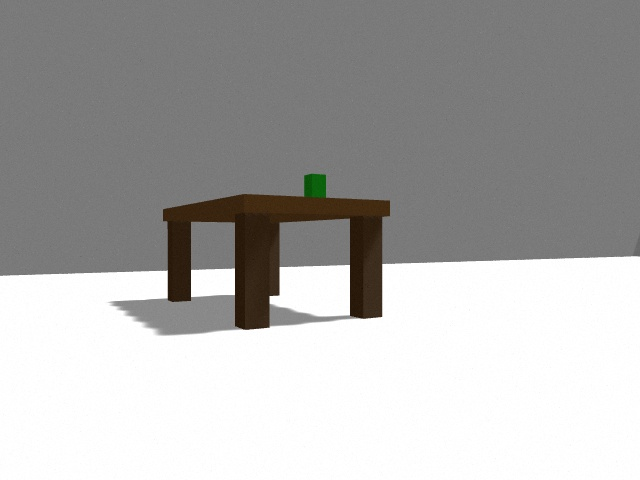green_cube: (304, 174, 326, 197)
